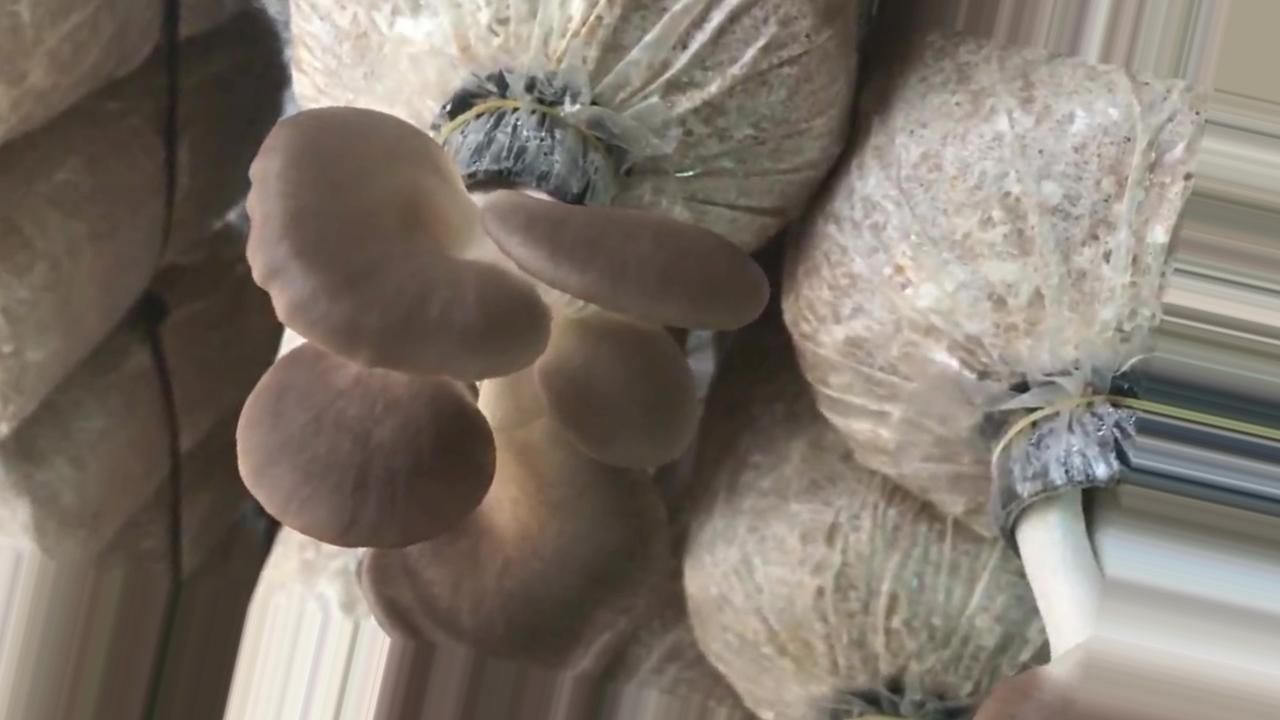nam: (236, 108, 764, 719), (974, 382, 1146, 720)
